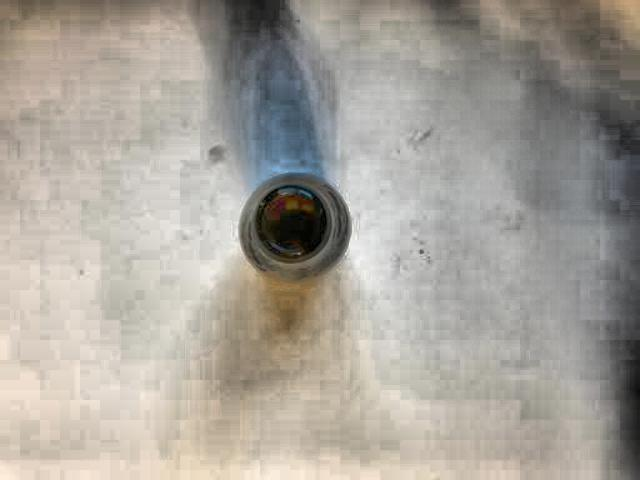Bottles: (217, 151, 360, 297)
